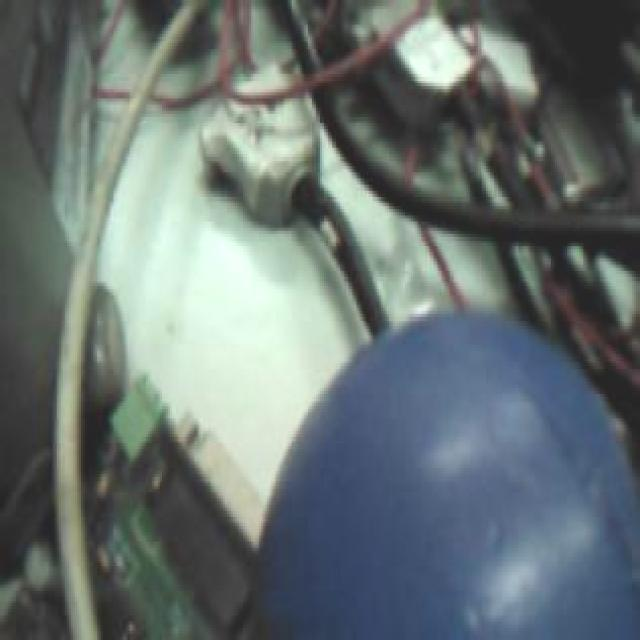BallPurple: (249, 307, 640, 640)
